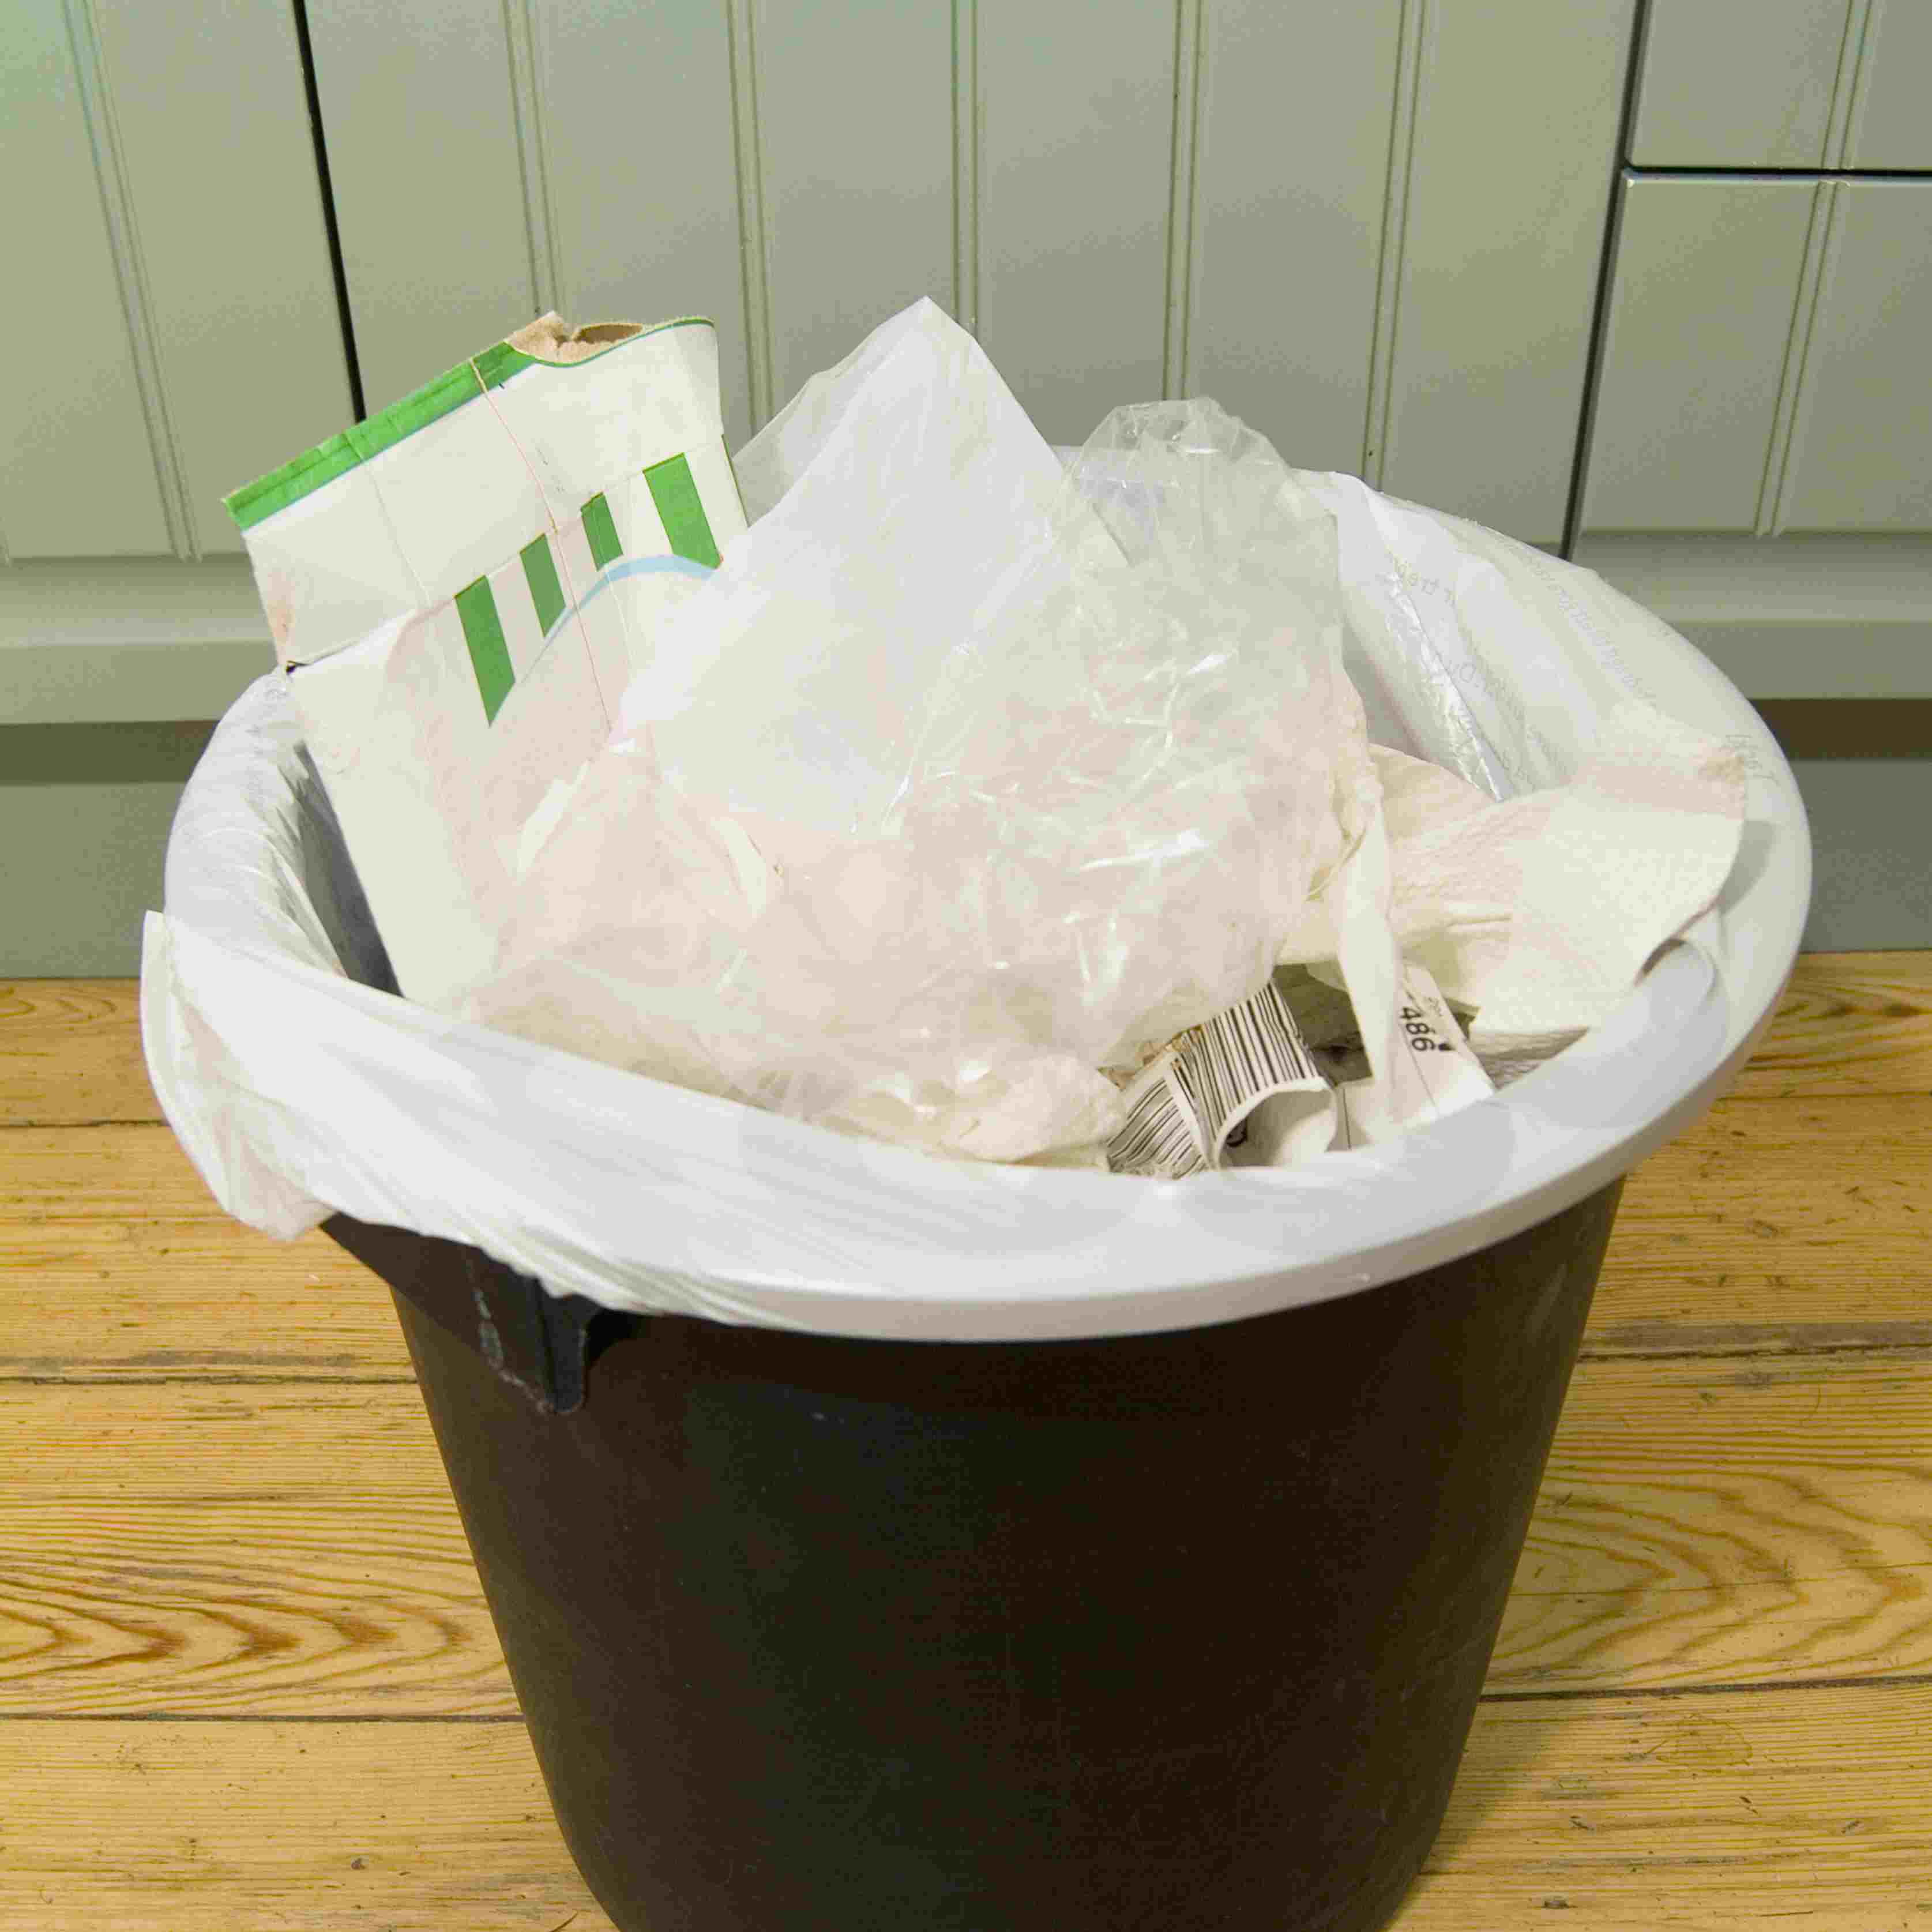plastic_bagwdw: (94, 205, 1858, 1569)
